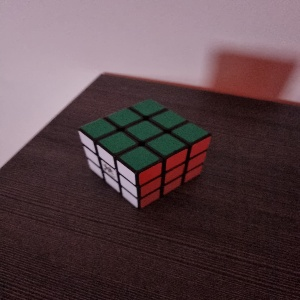cube: (77, 99, 212, 210)
